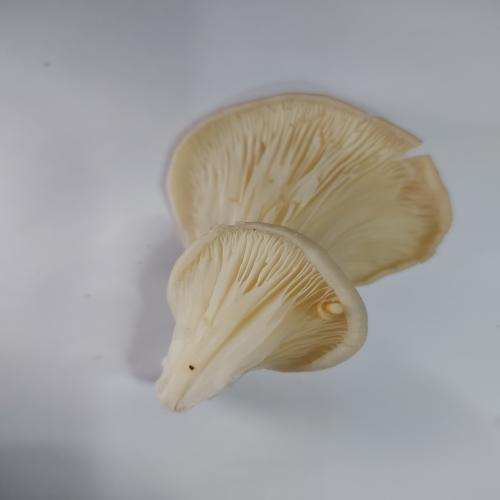Oyster Mushroom: (153, 91, 453, 413), (153, 220, 369, 413)
